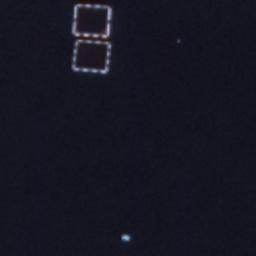square_solid: (68, 1, 116, 41), (69, 36, 115, 76)
